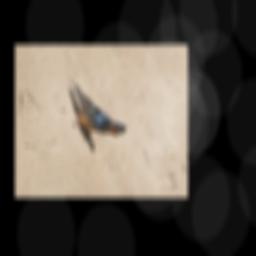Swallow: (65, 69, 130, 142)
